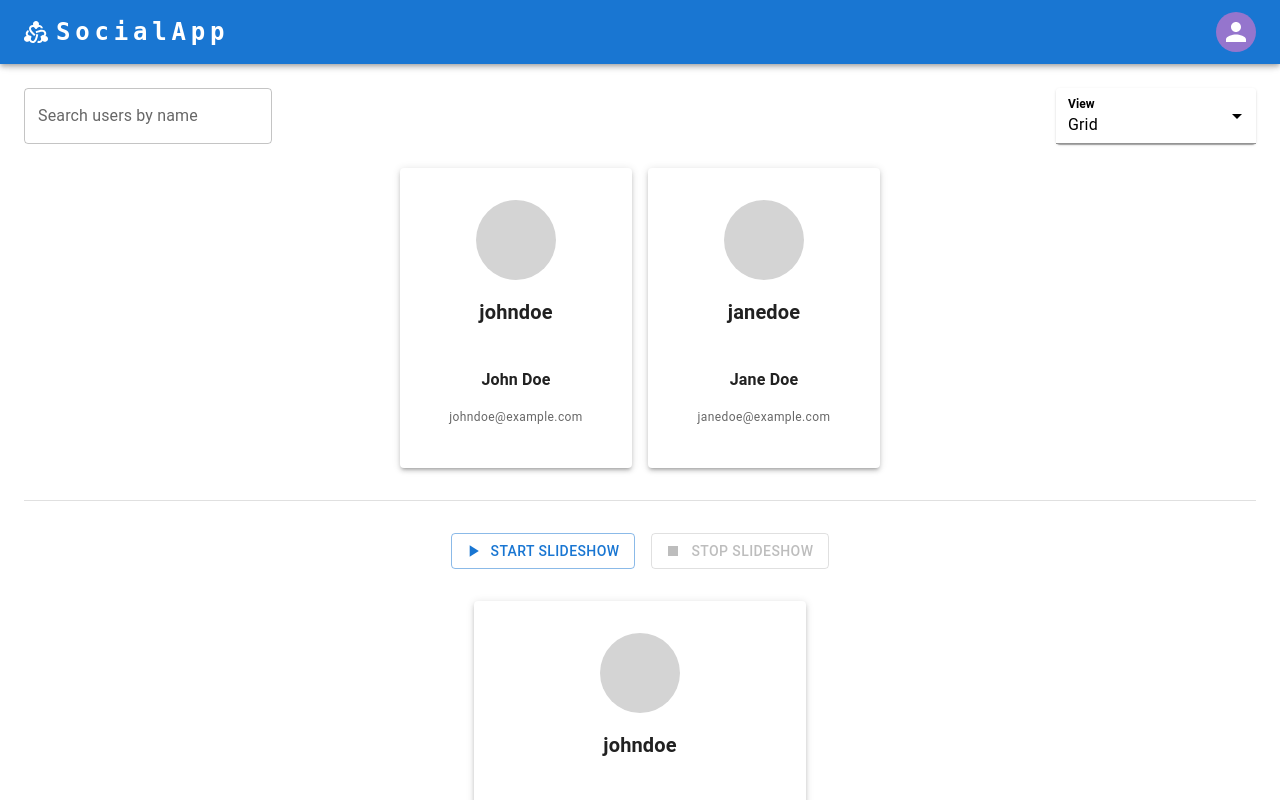
App Component › starts and stops the slideshow
Check: the button "Stop Slideshow" is disabled, box [652,533,829,569]
Click the button "Start Slideshow": x=543, y=551 [451,533,636,569]
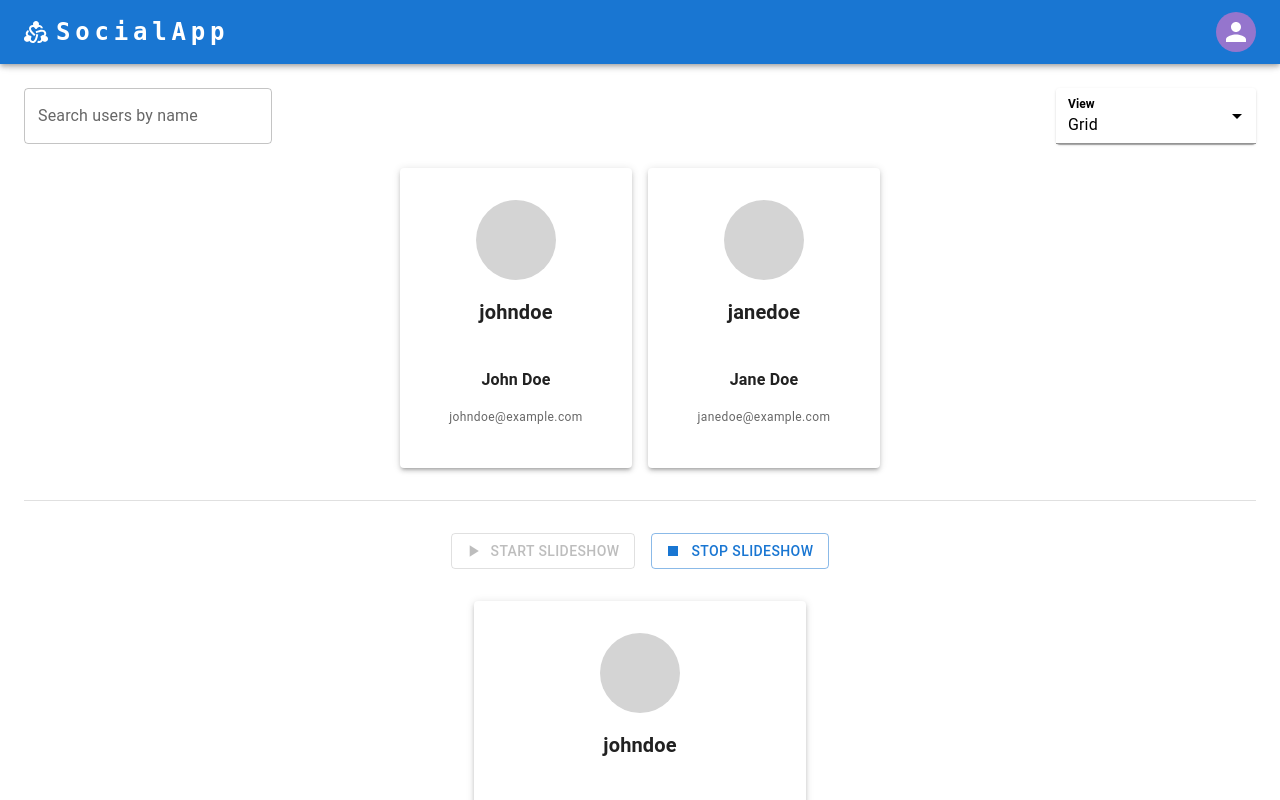
Check: the button "Start Slideshow" is disabled, box [451,533,636,569]
Check: the button "Stop Slideshow" is enabled
Click the button "Stop Slideshow": x=740, y=551 [652,533,829,569]
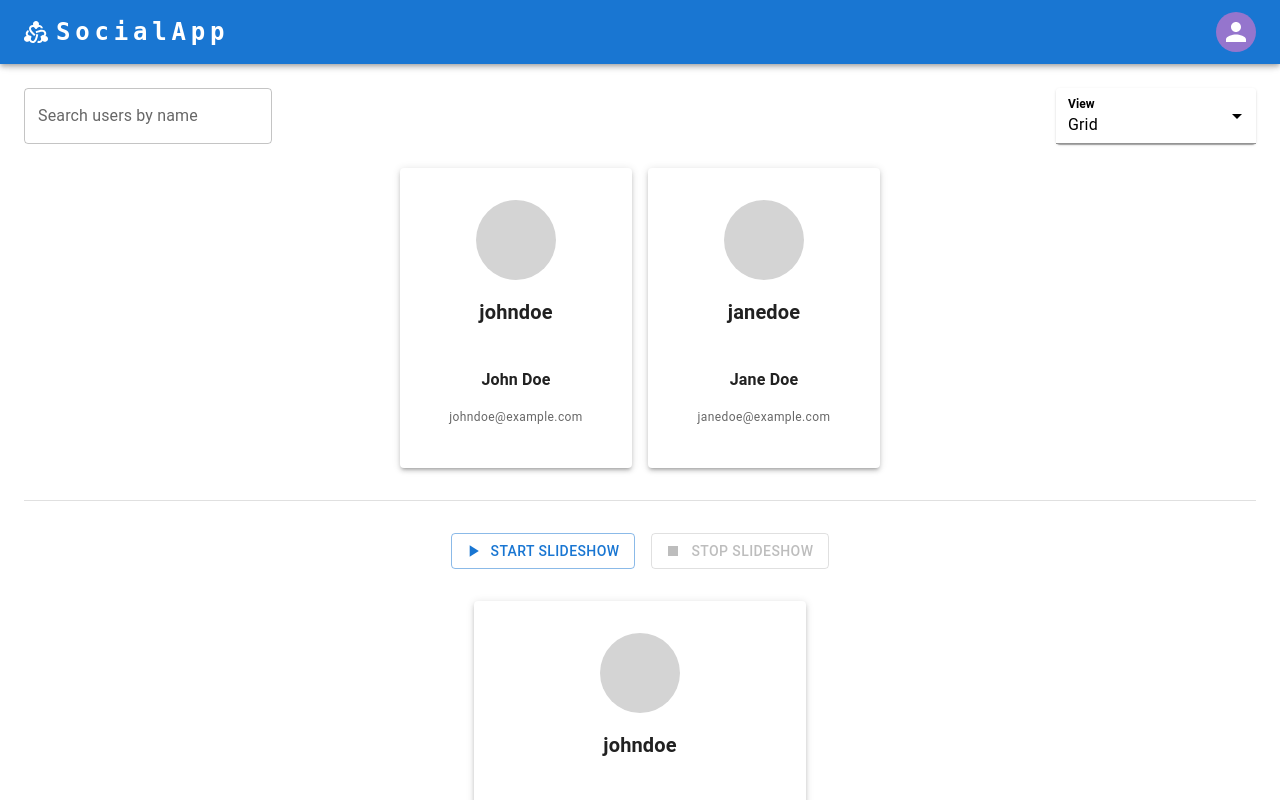
Check: the button "Start Slideshow" is enabled, box [451,533,636,569]
Check: the button "Stop Slideshow" is disabled, box [652,533,829,569]
